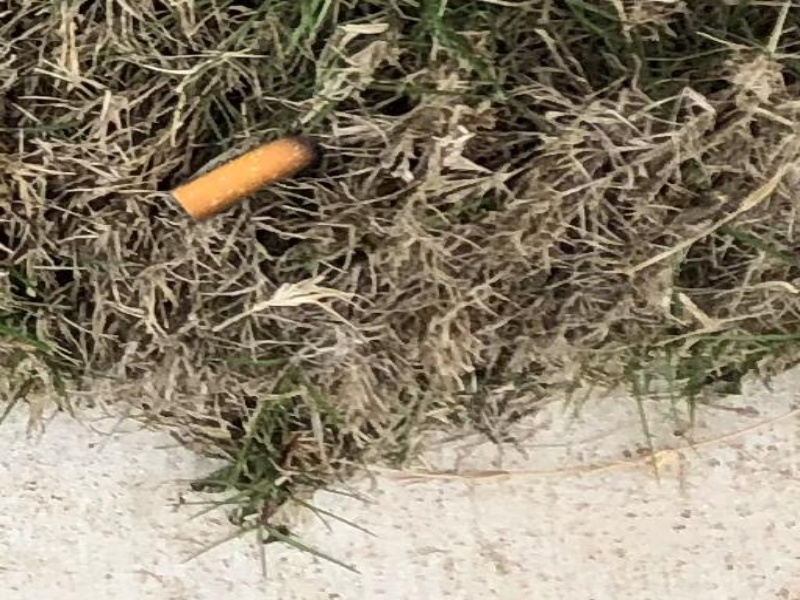cig: (154, 130, 323, 212)
